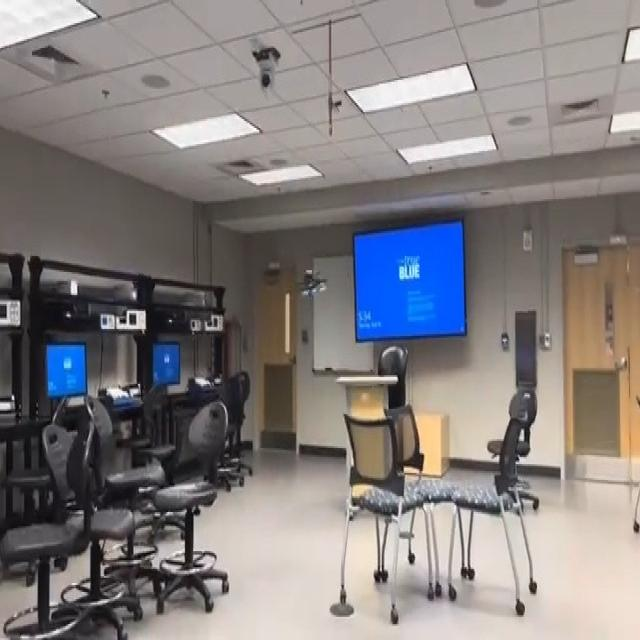drone: (291, 255, 334, 307)
